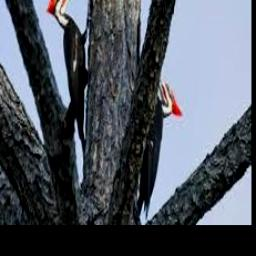Woodpecker: (137, 66, 183, 218), (48, 0, 92, 153)
